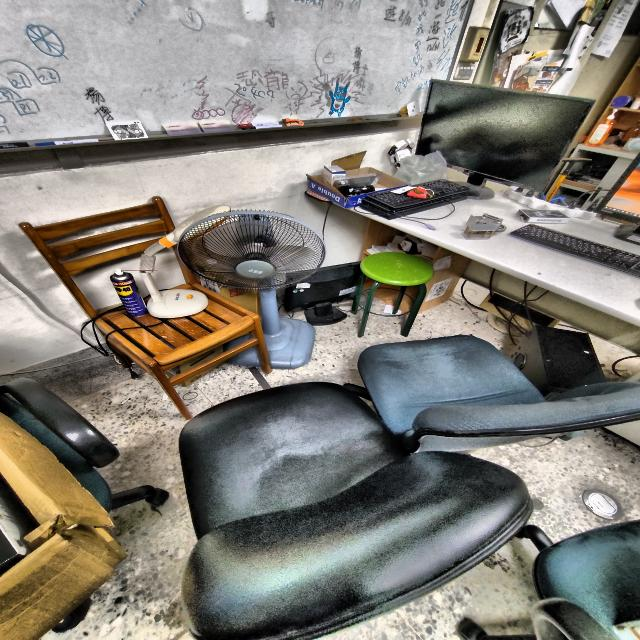cadeira: (154, 365, 538, 640), (13, 185, 283, 390), (349, 328, 640, 446), (356, 246, 438, 342)
